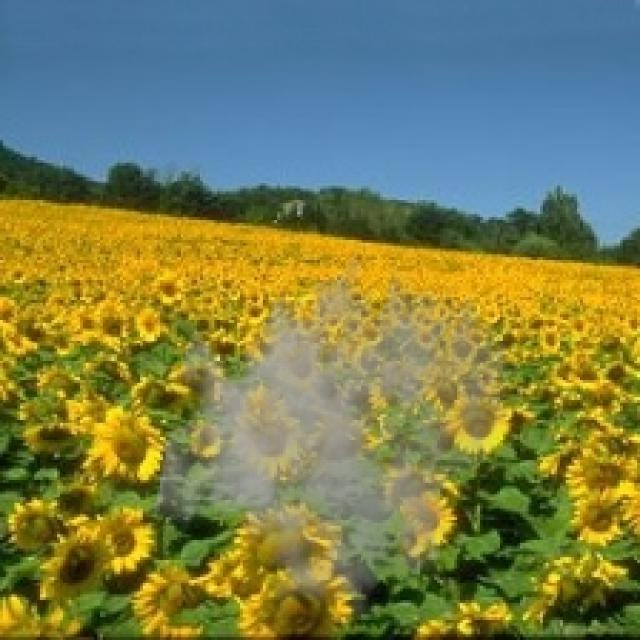smoke: (152, 234, 514, 623)
